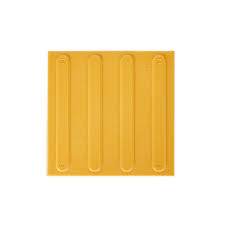guide_blocks: (51, 54, 172, 173)
